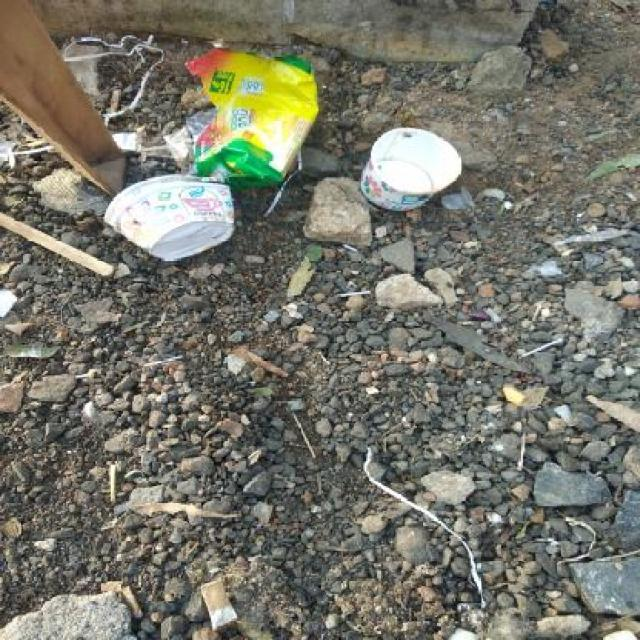garbage: (185, 48, 515, 242), (77, 23, 226, 157), (103, 176, 256, 287), (2, 200, 146, 317)
